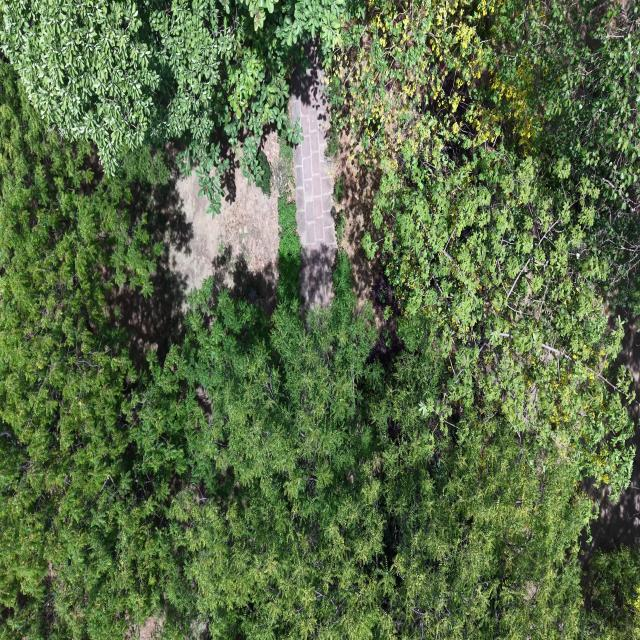DRY_AREA: (110, 159, 281, 366), (291, 43, 400, 361), (109, 163, 279, 366), (291, 43, 398, 357), (291, 44, 397, 334), (291, 42, 394, 334), (160, 166, 279, 314), (166, 166, 279, 312), (167, 167, 279, 307), (333, 134, 401, 363), (168, 168, 278, 309), (170, 166, 278, 306), (580, 309, 639, 562), (332, 133, 399, 353), (333, 134, 398, 332), (291, 43, 337, 312), (171, 173, 277, 289), (291, 44, 337, 311), (291, 45, 337, 310), (583, 401, 639, 558), (291, 69, 336, 248), (583, 427, 639, 557), (125, 614, 165, 639), (126, 616, 164, 639)
PATHWAYS: (291, 44, 336, 310)
VEGETATION_TREE: (0, 0, 639, 639), (139, 254, 591, 638), (330, 2, 639, 491), (331, 0, 639, 490), (0, 64, 167, 638), (141, 256, 385, 638), (0, 0, 358, 211), (581, 547, 639, 639)
